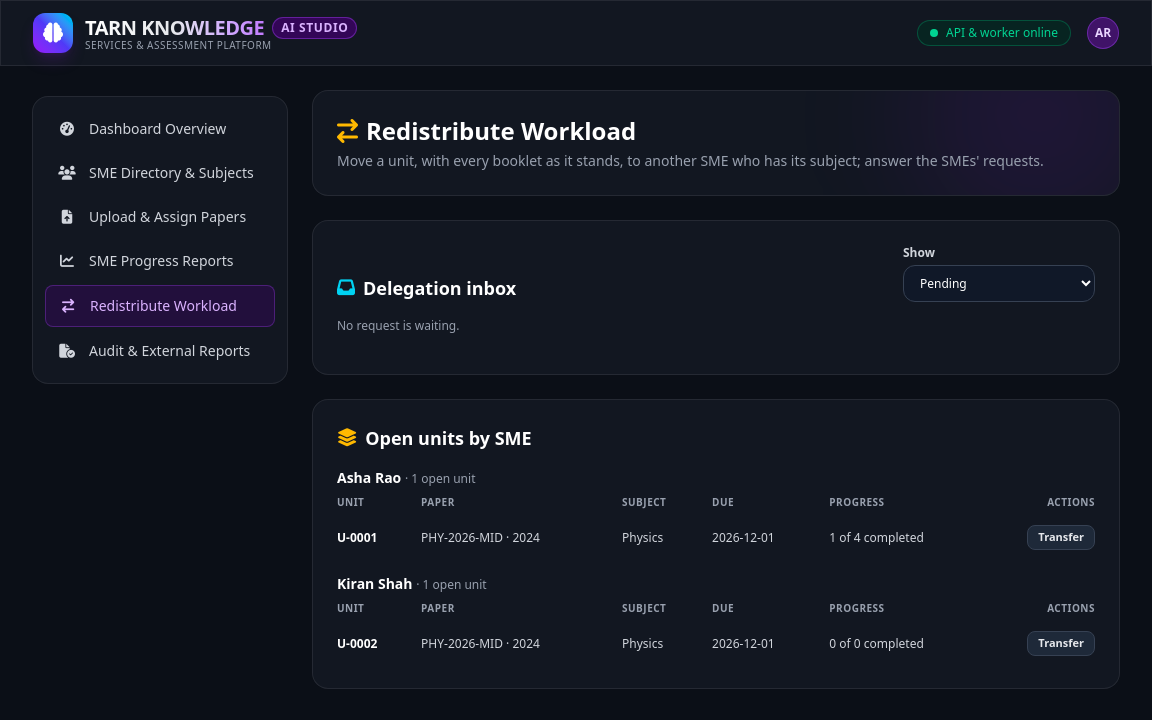
Test: Redistribute Workload › keeps the dialog open with the reason when the transfer is refused
Step 1. Click the button "Transfer" in the row of "U-0001" → coordinates (1061, 538), box [1027, 525, 1095, 550]
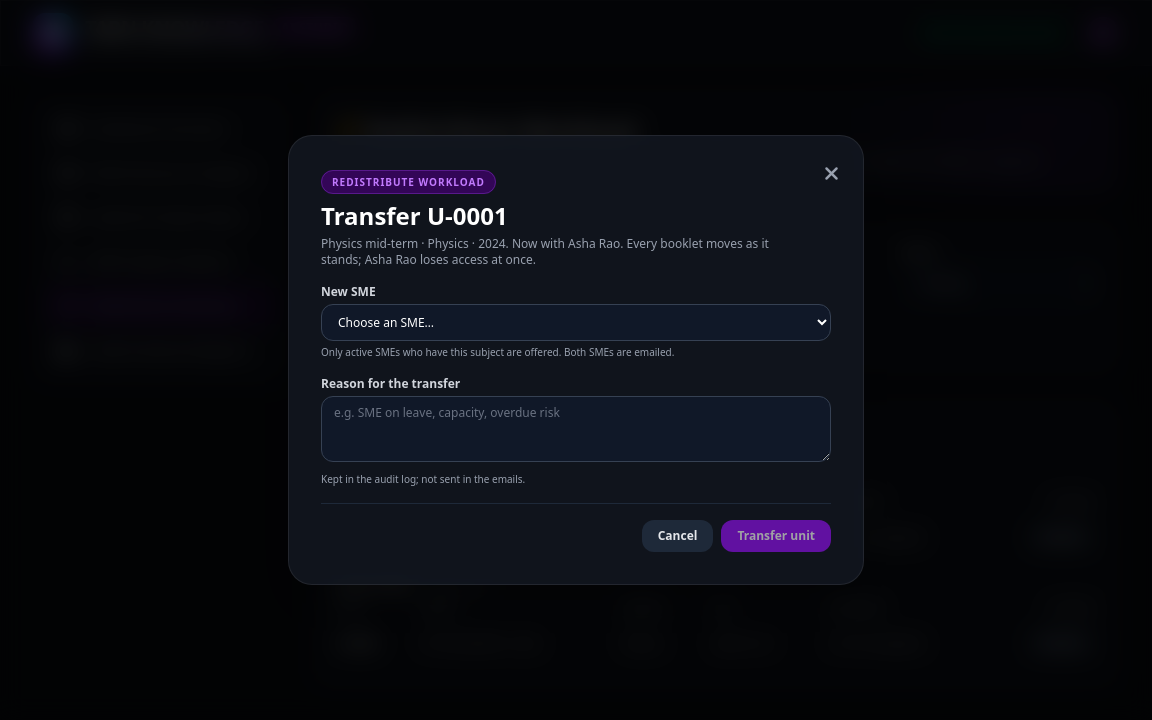
Step 2. Select "Kiran Shah (kiran@college.test)" in the dropdown labelled "New SME" → coordinates (576, 322), box [321, 304, 831, 341]
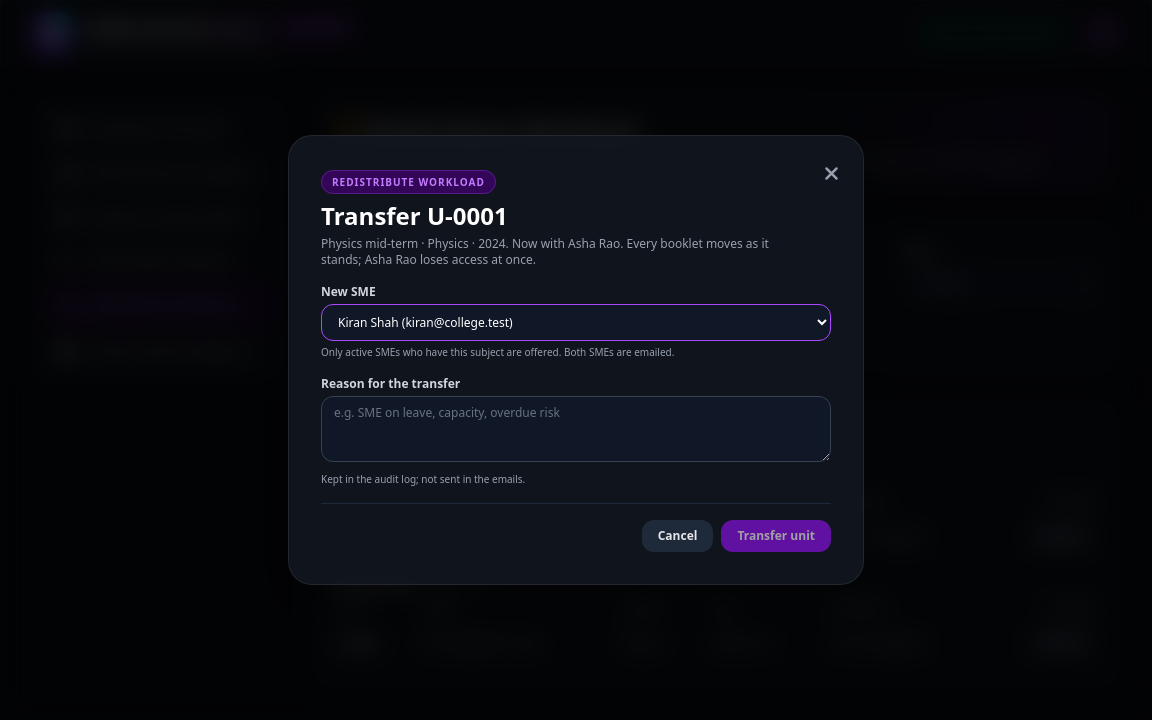
Step 3. Type "x" into the text box labelled "Reason for the transfer" → coordinates (576, 429), box [321, 396, 831, 462]
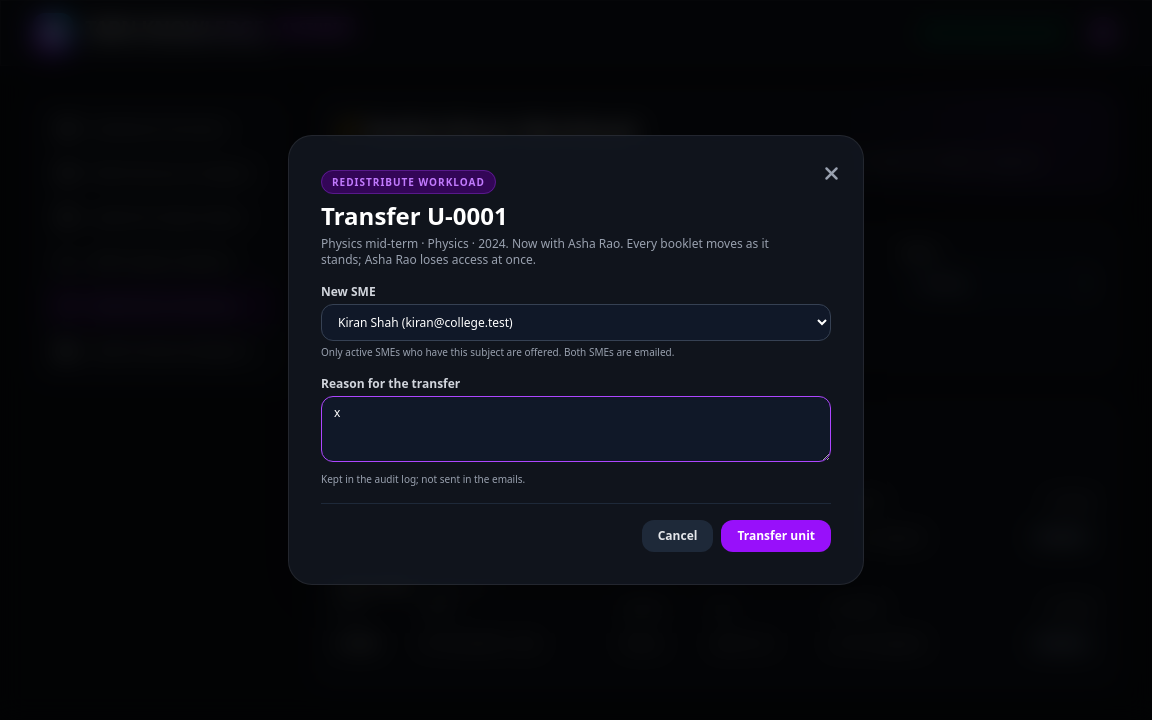
Step 4. Click the button "Transfer unit" → coordinates (776, 536), box [721, 520, 831, 552]
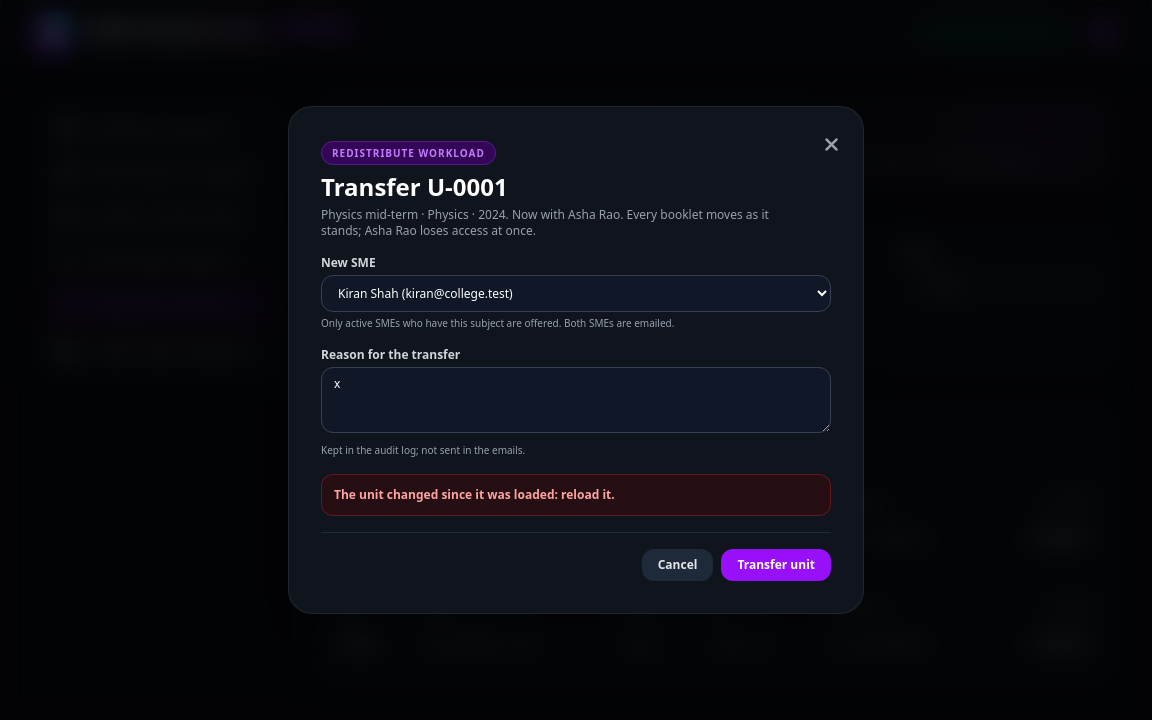
Check: the text "The unit changed since it was loaded: reload it." is shown, box [334, 486, 615, 503]
